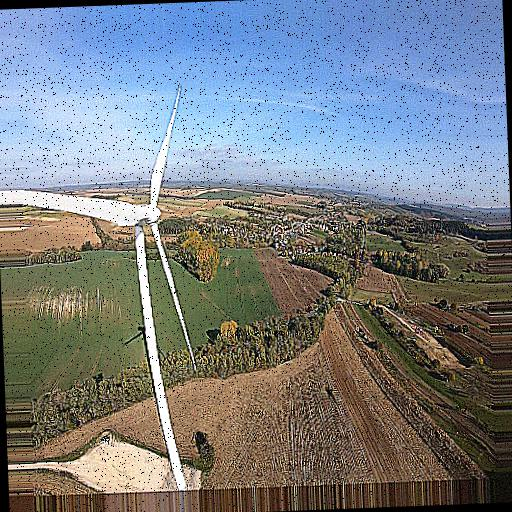wind turbine: (1, 83, 196, 485)
